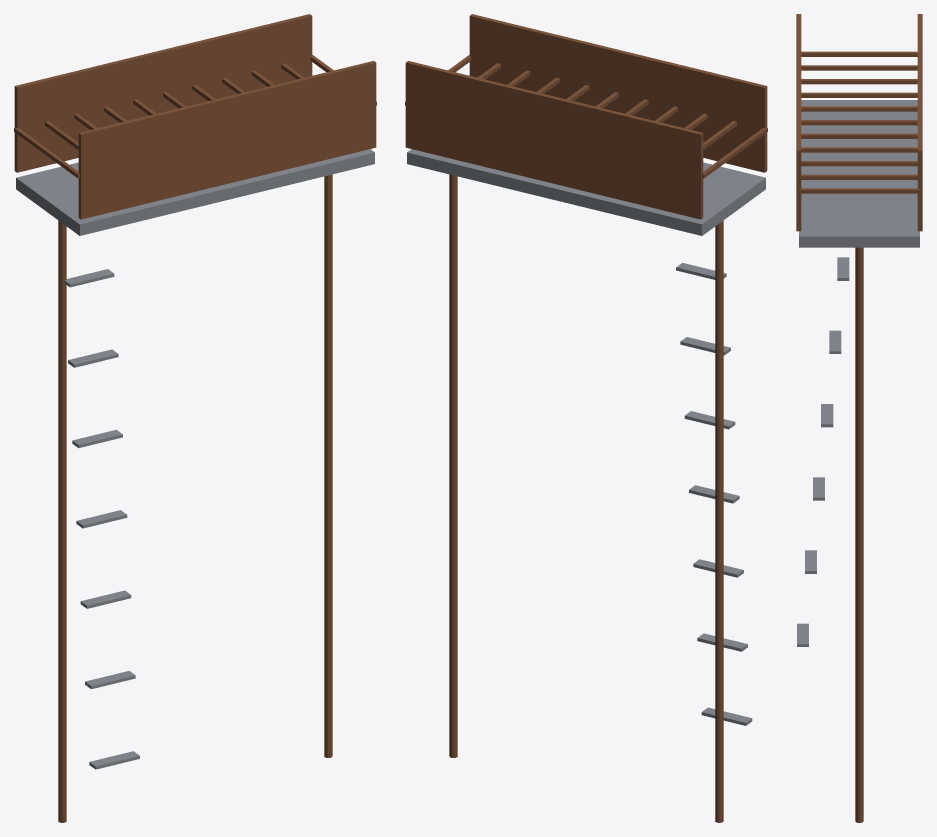
Rendered from INFRA_FireEscape_4x8.glb.
The picture shows the model from 3 angles, left to right: view 1: azimuth 30°, elevation 25°; view 2: azimuth 150°, elevation 25°; view 3: azimuth 270°, elevation 25°; orthographic projection. The views are drawn at different scales.
Parts seen in each view (by area): view 1: INFRA_FireEscape_4x8; view 2: INFRA_FireEscape_4x8; view 3: INFRA_FireEscape_4x8.
Boxes of the visible parts, x1,y1,x2,y2 form: INFRA_FireEscape_4x8: [14, 14, 376, 822]; INFRA_FireEscape_4x8: [405, 14, 767, 822]; INFRA_FireEscape_4x8: [796, 14, 922, 822].
Bounding box in the file's own units: 4.05 × 9.25 × 1.56.
